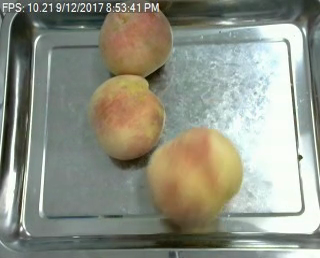Peach: (146, 127, 244, 222), (89, 74, 166, 160), (99, 2, 174, 78)
